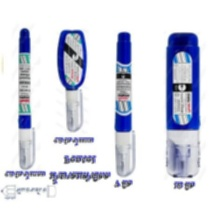correction_fluid: (163, 30, 202, 181), (112, 29, 137, 178), (54, 27, 89, 133), (15, 26, 36, 171)
